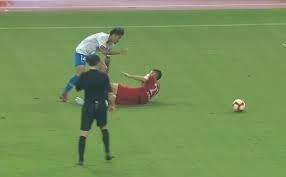falling: (74, 63, 171, 108)
